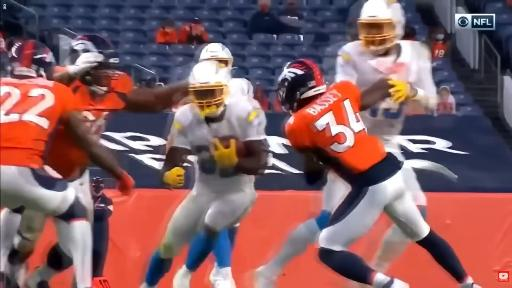Helmet: (67, 35, 120, 93), (277, 60, 326, 112), (189, 60, 230, 117), (358, 0, 396, 52), (8, 40, 55, 79), (199, 43, 233, 68)
Jersey: (286, 82, 386, 174), (171, 98, 266, 193), (335, 40, 437, 110), (0, 79, 77, 168), (70, 73, 132, 140), (228, 79, 253, 98)
Player: (278, 60, 479, 287), (0, 40, 134, 287), (142, 61, 268, 287), (56, 35, 186, 139), (255, 157, 350, 287), (335, 0, 437, 111), (336, 0, 436, 106), (210, 224, 239, 287), (199, 43, 233, 73)
